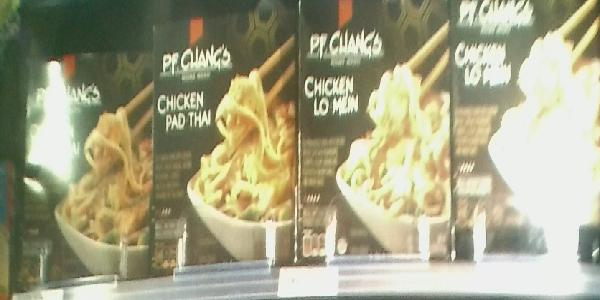pizza1: (297, 1, 449, 264), (452, 1, 599, 266), (152, 12, 299, 265), (18, 41, 157, 277)
